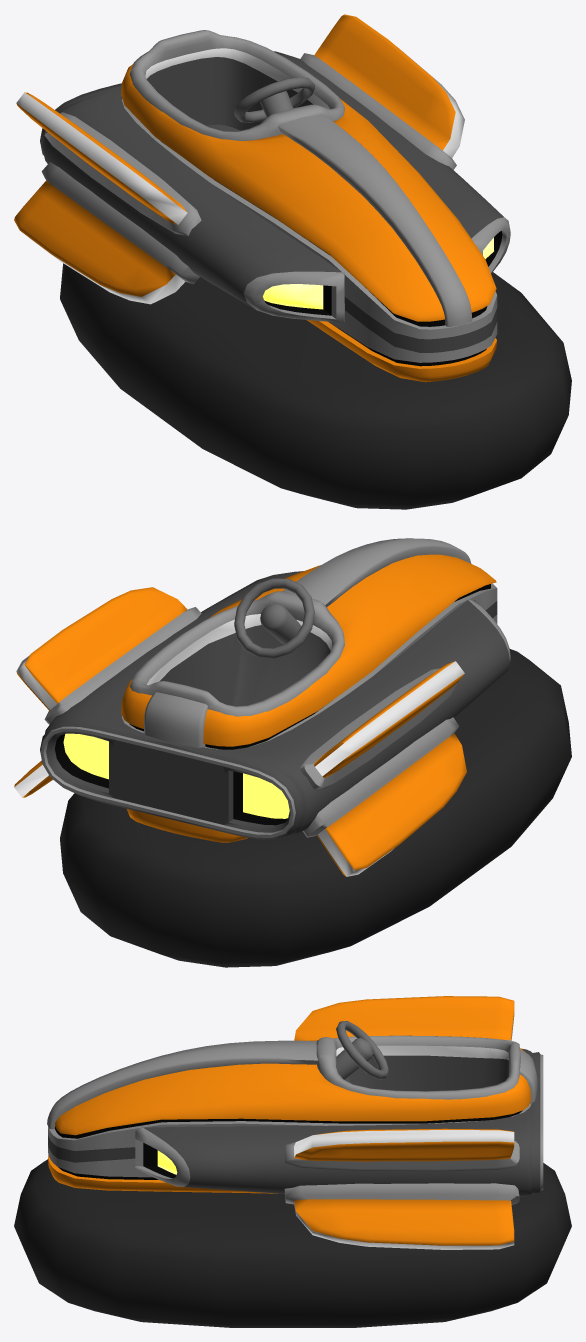
File: mesh_Car_InGame_N.fbx
3 views of the same model, one above another, from view 1: azimuth 30°, elevation 25°; view 2: azimuth 150°, elevation 25°; view 3: azimuth 270°, elevation 25° (orthographic). The views are drawn at different scales.
Visible parts, largest first — view 1: mesh_Car_InGame_N; view 2: mesh_Car_InGame_N; view 3: mesh_Car_InGame_N.
Boxes of the visible parts, x1,y1,x2,y2 form: mesh_Car_InGame_N: (14,14,571,509); mesh_Car_InGame_N: (14,538,571,967); mesh_Car_InGame_N: (14,996,571,1327).
Size of the model in its own units: 1.8 by 1.5 by 2.97.
